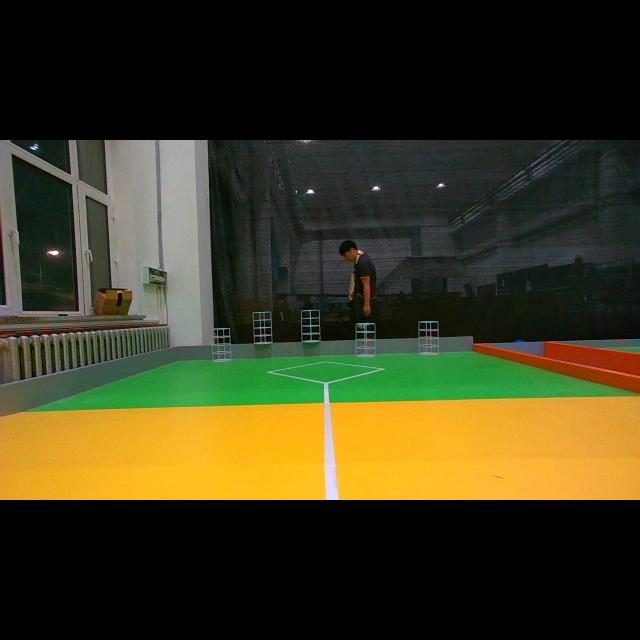S: (210, 328, 234, 362), (354, 323, 378, 357), (416, 322, 440, 354), (300, 309, 322, 343), (252, 312, 274, 344)
